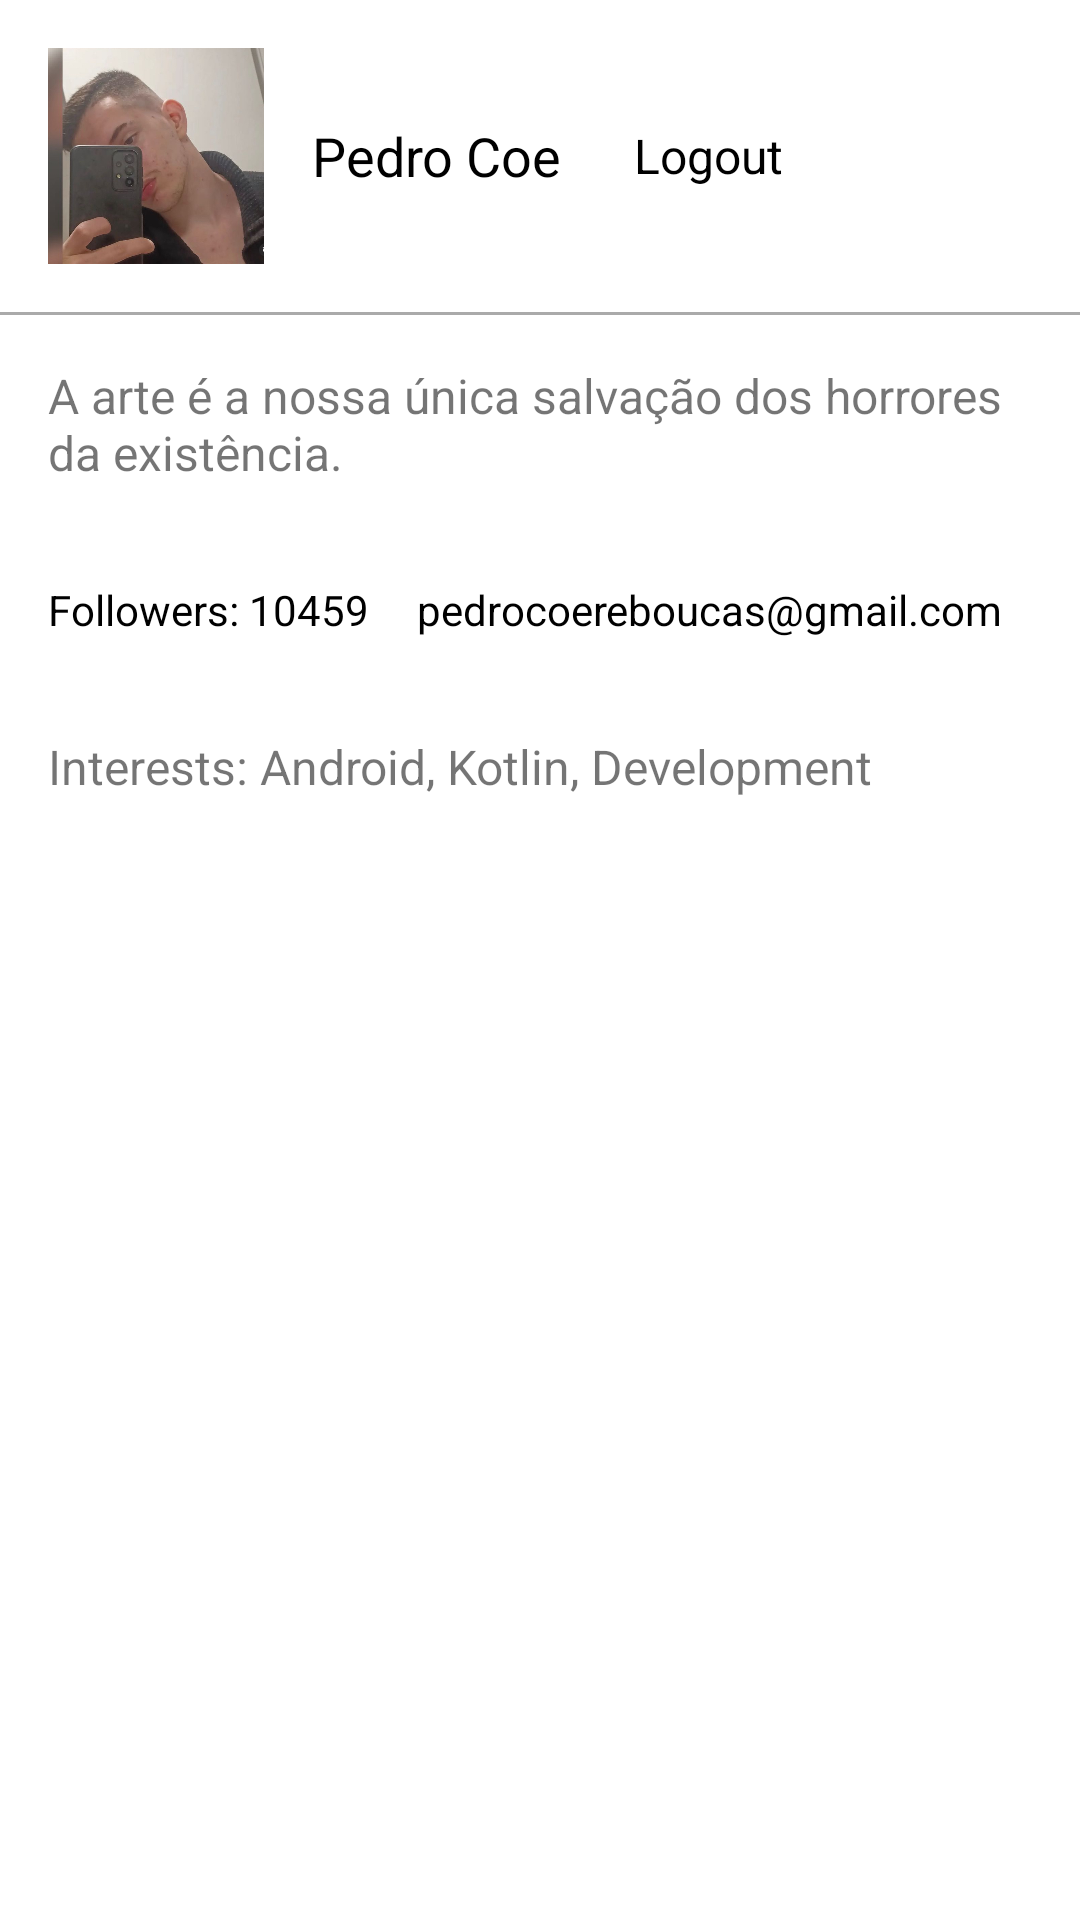

Icon bounding boxes for this 1080w x 1920h phone screenshot, format (x1, y1, x2, y2):
profile: (48, 48, 264, 264)
